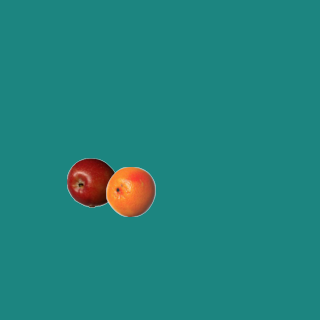Apple Braeburn: (66, 157, 116, 207)
Grapefruit Pink: (105, 166, 155, 216)
